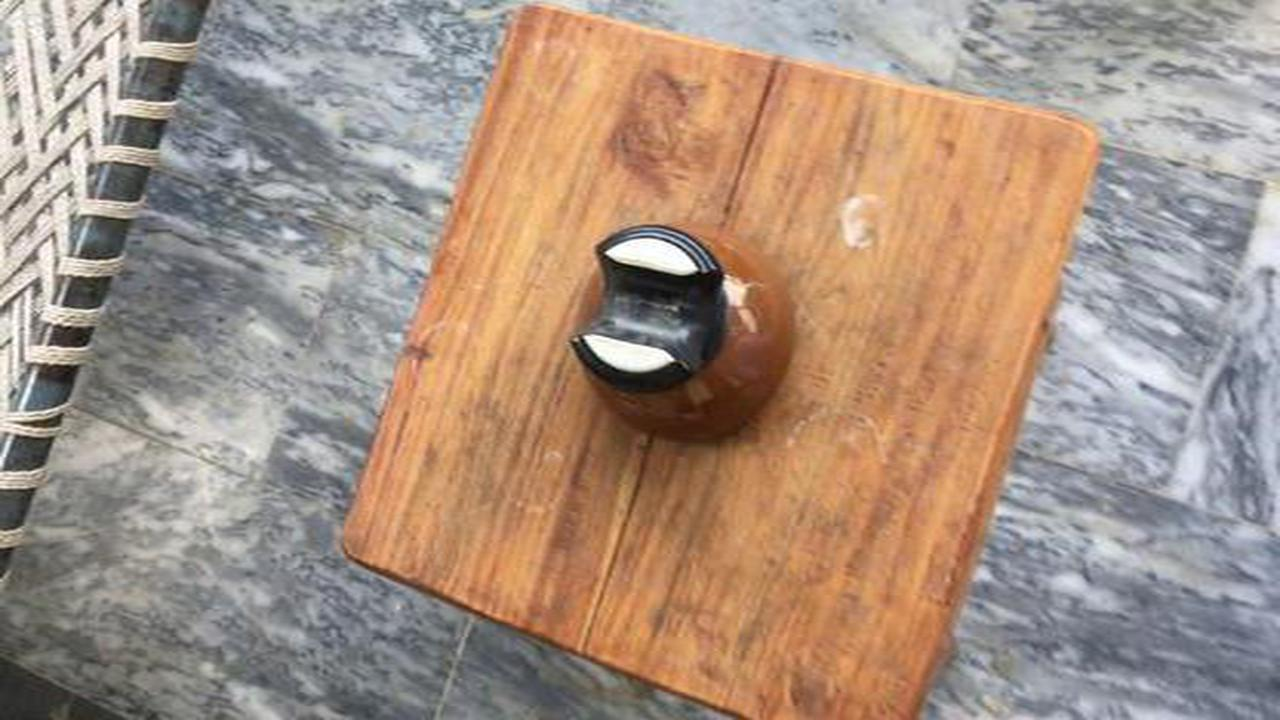insulator_pin: (530, 208, 819, 468)
